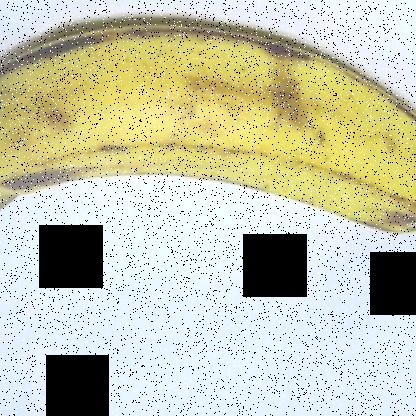ripe: (1, 1, 415, 266)
